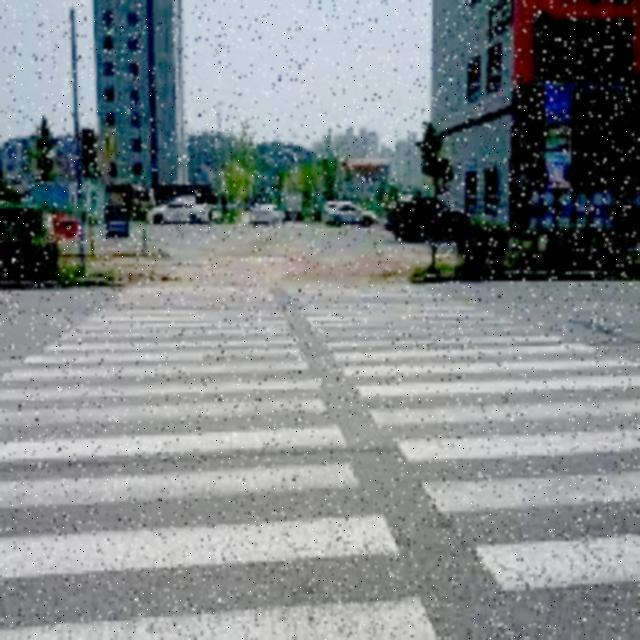Pedestrian crosswalk: (0, 283, 638, 637)
